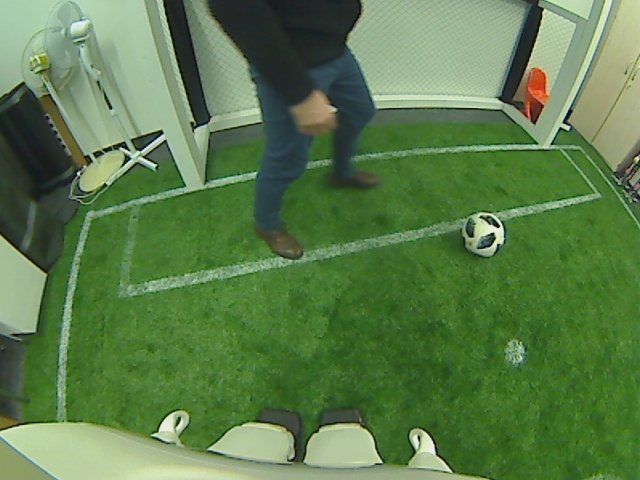ball: (460, 210, 506, 258)
